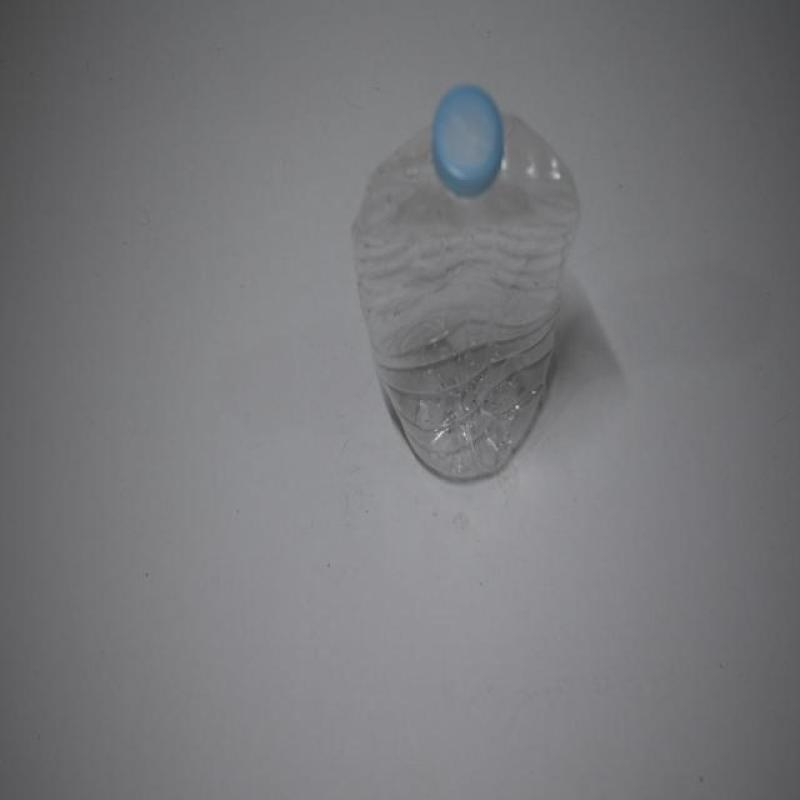botella: (351, 85, 581, 480)
